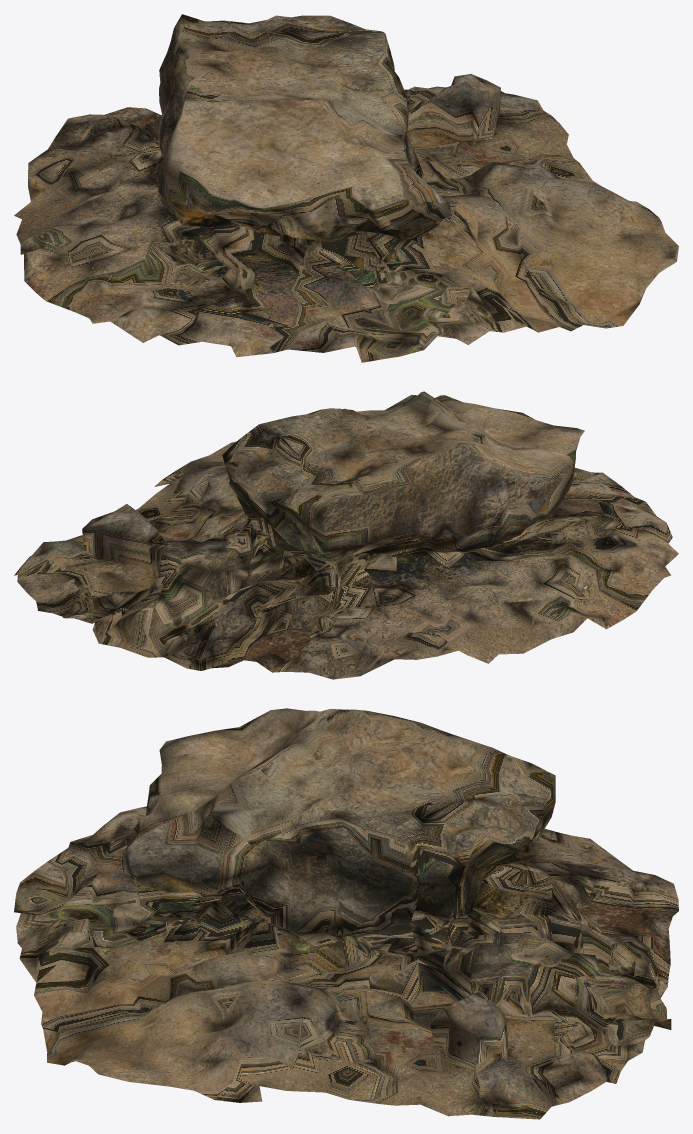
File: rock_coast.glb
The picture shows the model from 3 angles, top to bottom: view 1: azimuth 30°, elevation 25°; view 2: azimuth 150°, elevation 25°; view 3: azimuth 270°, elevation 25°; orthographic projection. The views are drawn at different scales.
Size of the model in its own units: 3.98 by 1.31 by 3.74.
1 material, 1 textured.
